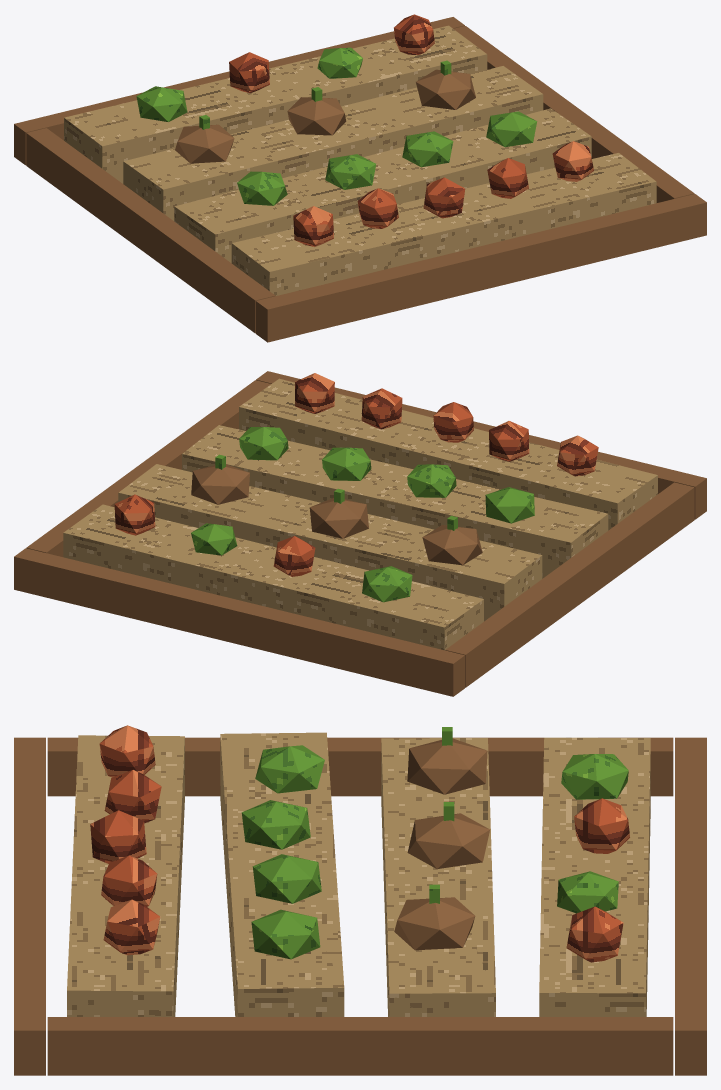
File: field_plot_t1.glb
3 views of the same model, one above another, from view 1: azimuth 30°, elevation 25°; view 2: azimuth 150°, elevation 25°; view 3: azimuth 270°, elevation 25° (orthographic). The views are drawn at different scales.
Parts seen in each view (by area): view 1: soil_row_0, frame_y1, soil_row_2, soil_row_3, soil_row_1, frame_x1, frame_x0, frame_y0, pumpkin_r2_2, pumpkin_r2_1, pumpkin_r2_0, leaf_r1_2 (+12 smaller); view 2: soil_row_3, frame_y0, soil_row_0, soil_row_2, soil_row_1, frame_x1, frame_x0, frame_y1, pumpkin_r2_2, pumpkin_r2_1, pumpkin_r2_0, leaf_r1_0 (+12 smaller); view 3: frame_x0, soil_row_1, soil_row_3, soil_row_0, soil_row_2, frame_x1, frame_y0, frame_y1, pumpkin_r2_0, pumpkin_r2_1, pumpkin_r2_2, leaf_r1_3 (+12 smaller).
Boxes of the visible parts, x1,y1,x2,y2 form: soil_row_0: (231,153,656,295); frame_y1: (256,194,706,342); soil_row_2: (123,66,543,220); soil_row_3: (64,25,487,183); soil_row_1: (174,108,591,262); frame_x1: (26,128,275,333); frame_x0: (453,26,694,202); frame_y0: (14,17,464,165); pumpkin_r2_2: (416,69,475,109); pumpkin_r2_1: (287,97,346,135); pumpkin_r2_0: (175,124,234,163); leaf_r1_2: (402,131,453,167); soil_row_3: (63,504,483,650); frame_y0: (14,548,464,696); soil_row_0: (239,378,657,530); soil_row_2: (118,464,542,621); soil_row_1: (182,425,608,578); frame_x1: (445,482,694,687); frame_x0: (26,380,270,556); frame_y1: (256,371,706,519); pumpkin_r2_2: (191,464,249,504); pumpkin_r2_1: (309,498,368,538); pumpkin_r2_0: (422,525,482,565); leaf_r1_0: (485,487,534,523); frame_x0: (47,1017,673,1075); soil_row_1: (220,732,344,1016); soil_row_3: (539,737,650,1016); soil_row_0: (67,735,184,1016); soil_row_2: (381,738,495,1016); frame_x1: (47,737,673,796); frame_y0: (675,737,706,1075); frame_y1: (14,737,45,1075); pumpkin_r2_0: (407,738,487,794); pumpkin_r2_1: (407,813,489,868); pumpkin_r2_2: (394,897,475,950); leaf_r1_3: (251,909,320,959).
Size of what is drawn, in the model's own units: 1.95 by 0.365 by 1.95.
4 materials, 3 textured.
